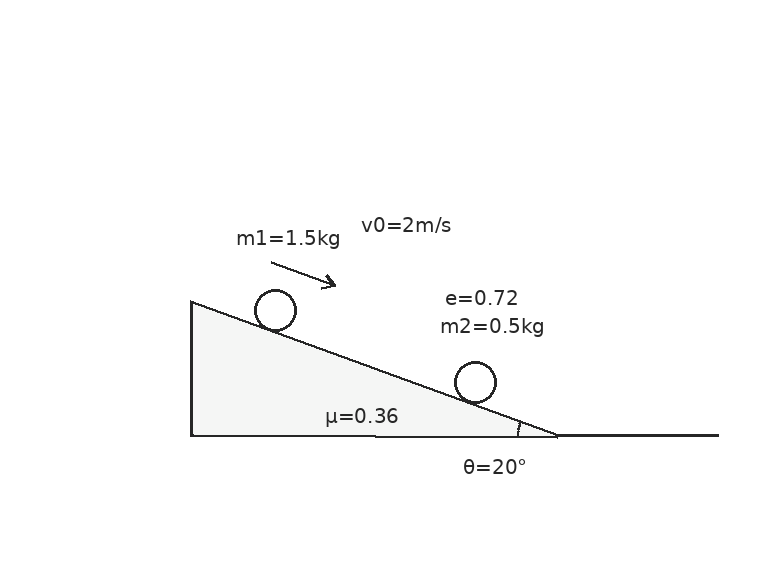ball: (252, 287, 298, 333), (452, 359, 498, 405)
ramp: (190, 300, 560, 437)
